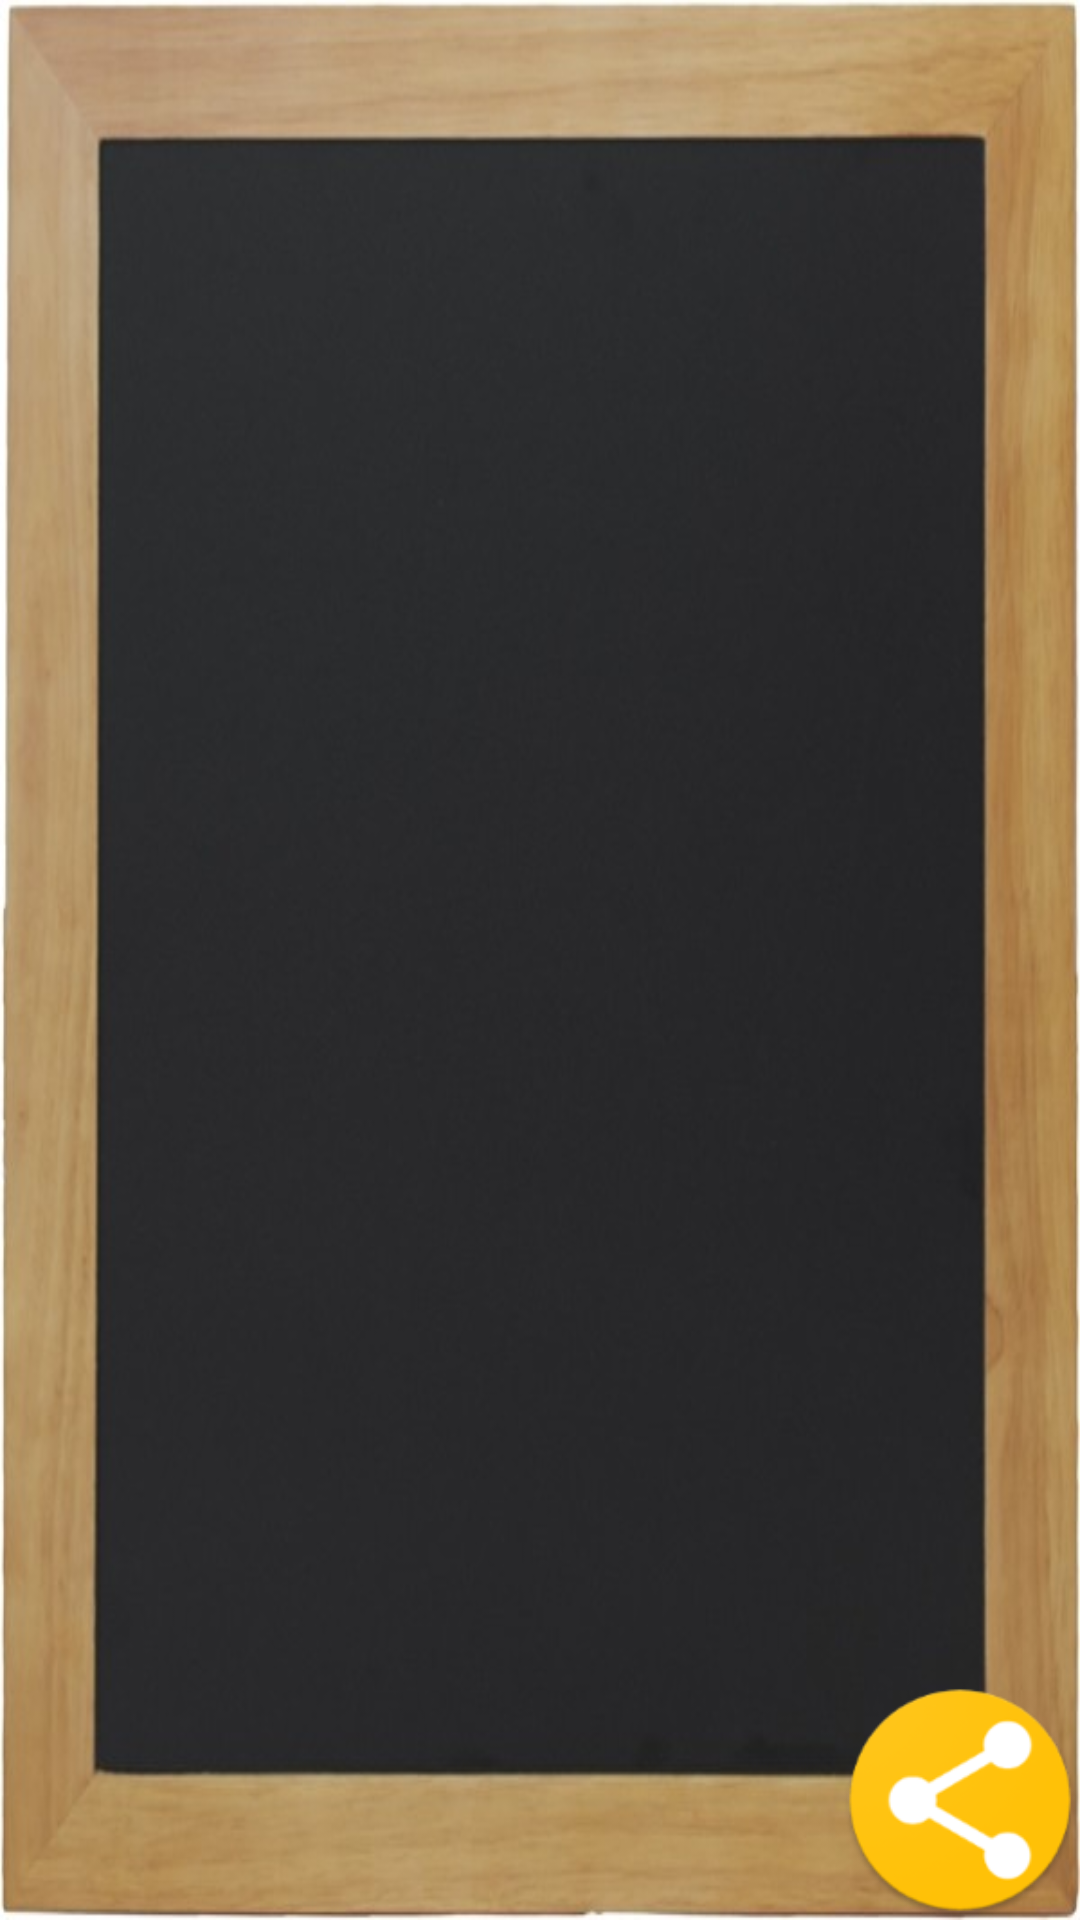

Screen size 1080×1920. Icon name, then its center in pixels as (x,y):
condividi: (960,1800)
